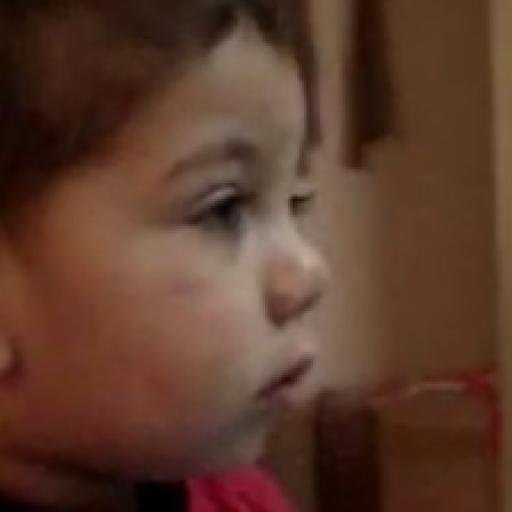Autism: (10, 30, 386, 466)
